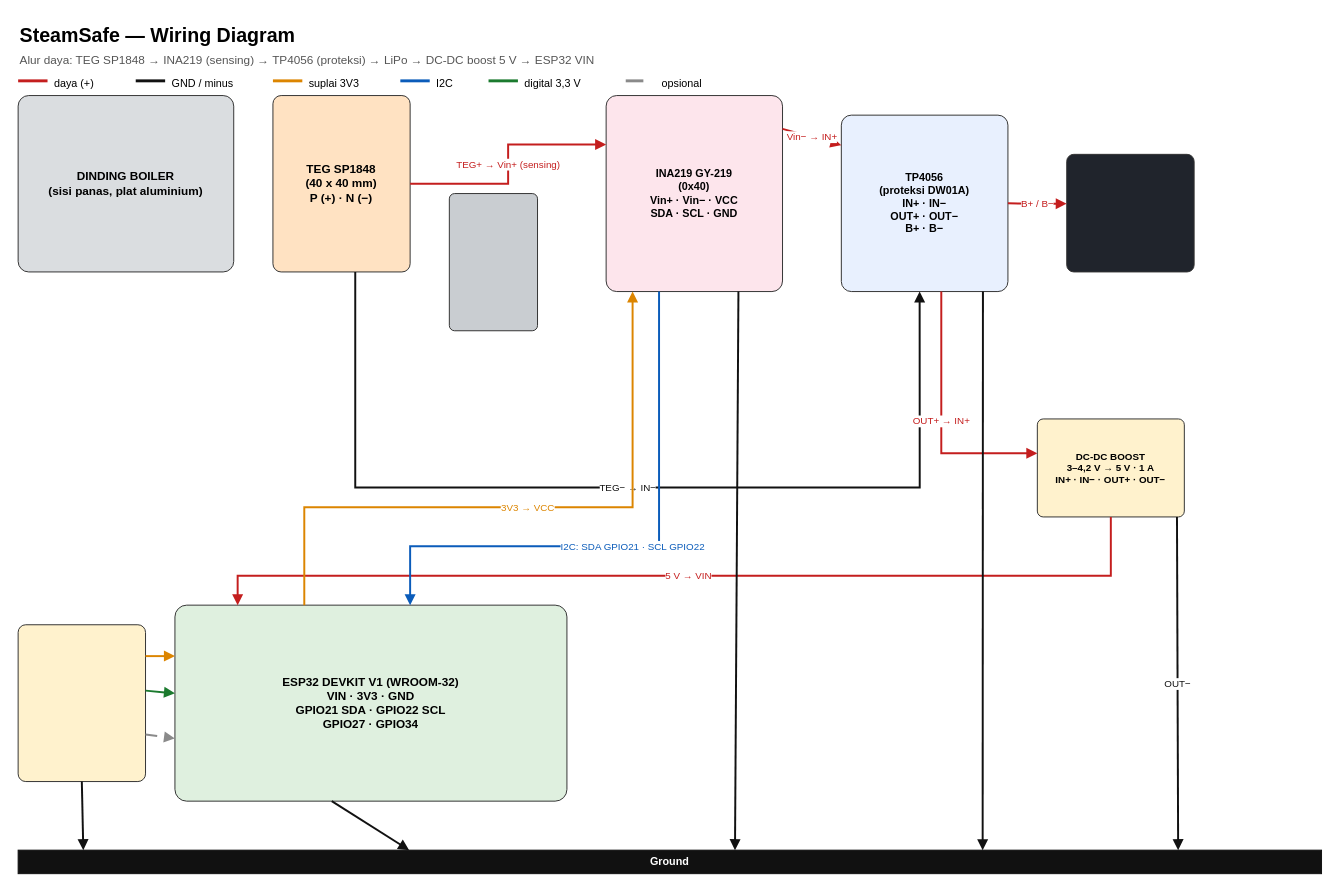
Some shapes in this 1339 by 891 pixel diagram are drawn without their labels. Each missing label, with the centre of its shape:
HEATSINK (sisi dingin): point 493,262
LiPo 3,7 V · 1200 mAh + / −: point 1130,212
SENSOR HUJAN FC-37 + LM393 VCC · GND D0 · AO: point 81,703
